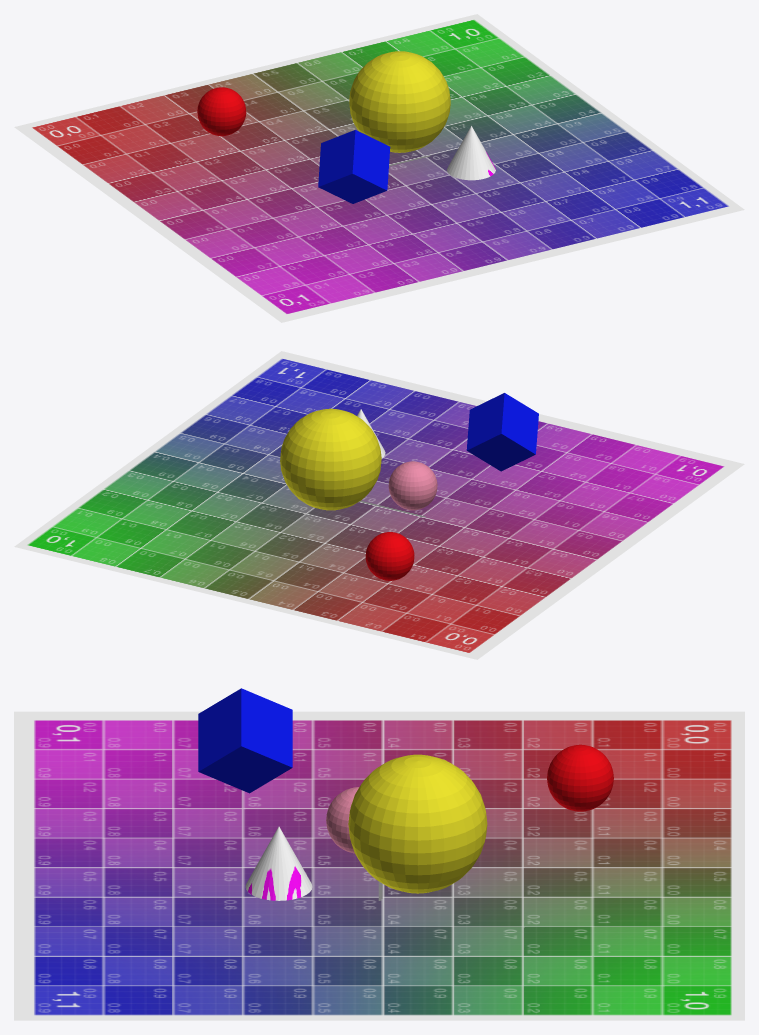
The model's file is testOld2.glb.
3 views of the same model, one above another, from view 1: azimuth 30°, elevation 25°; view 2: azimuth 150°, elevation 25°; view 3: azimuth 270°, elevation 25° (orthographic). The views are drawn at different scales.
Parts seen in each view (by area): view 1: Plane, bigSphere, cube, Sphere, Cone; view 2: Plane, bigSphere, cube, Sphere, pinkSphere; view 3: Plane, bigSphere, cube, Sphere, Cone, pinkSphere.
Part boxes in pixels (x1,y1,x2,y2): Plane: [14, 14, 744, 322]; bigSphere: [349, 51, 450, 152]; cube: [318, 130, 390, 203]; Sphere: [197, 87, 246, 136]; Cone: [447, 126, 495, 180]; Plane: [14, 351, 744, 659]; bigSphere: [280, 408, 381, 510]; cube: [466, 393, 538, 471]; Sphere: [365, 532, 414, 580]; pinkSphere: [388, 461, 437, 510]; Plane: [14, 711, 744, 1020]; bigSphere: [348, 754, 487, 893]; cube: [198, 688, 292, 793]; Sphere: [547, 744, 613, 811]; Cone: [245, 826, 312, 900]; pinkSphere: [326, 787, 359, 853].
Size of the model in its own units: 21.83 by 4.3 by 21.83.
Materials: 6 (2 with a texture image).
